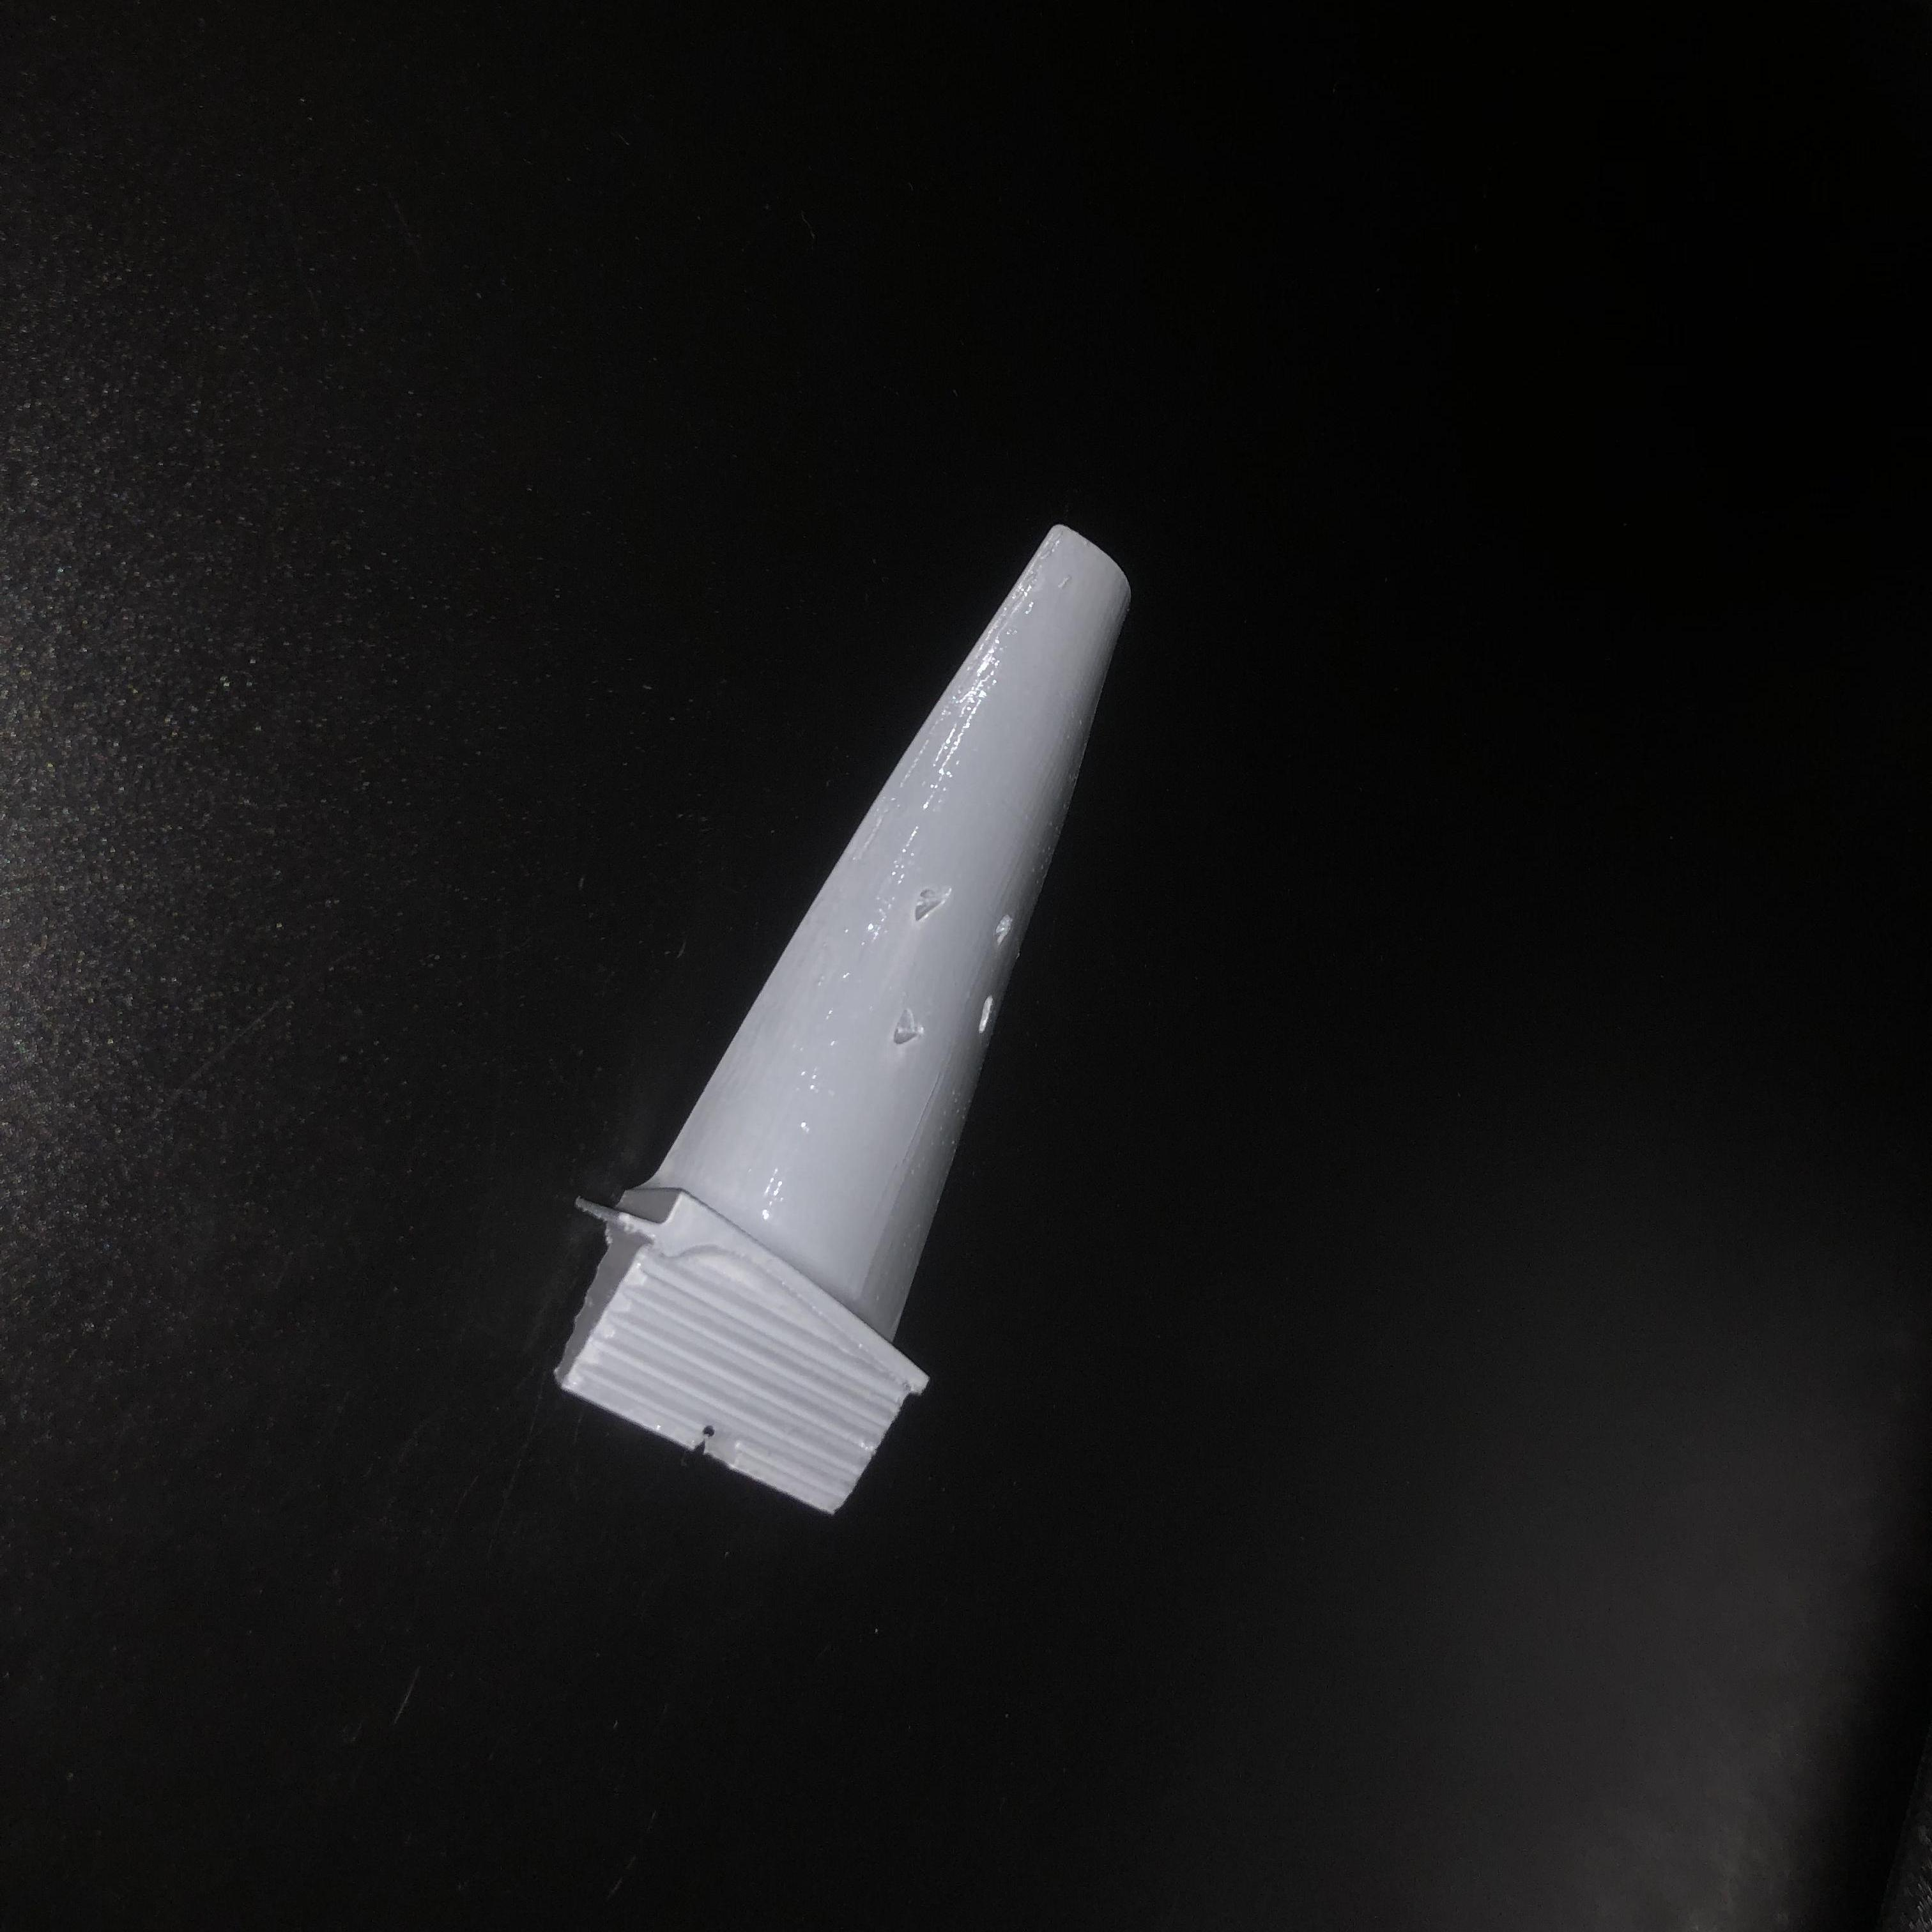breakdown: (902, 885, 1017, 1054)
